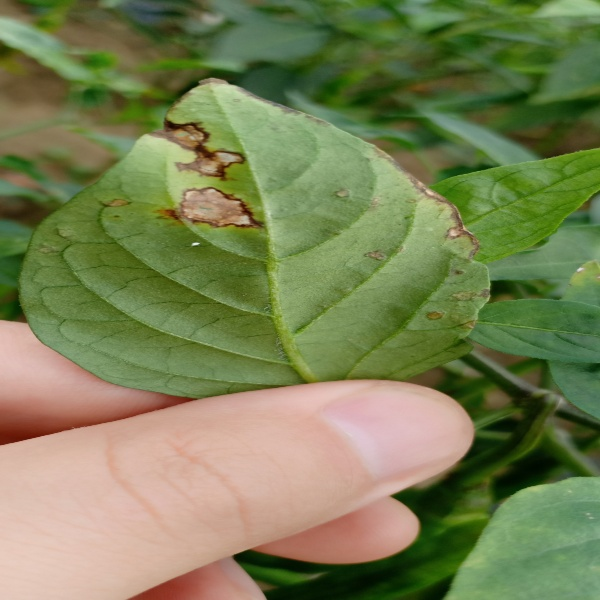Anthrax: (331, 142, 495, 344), (159, 121, 263, 228)
